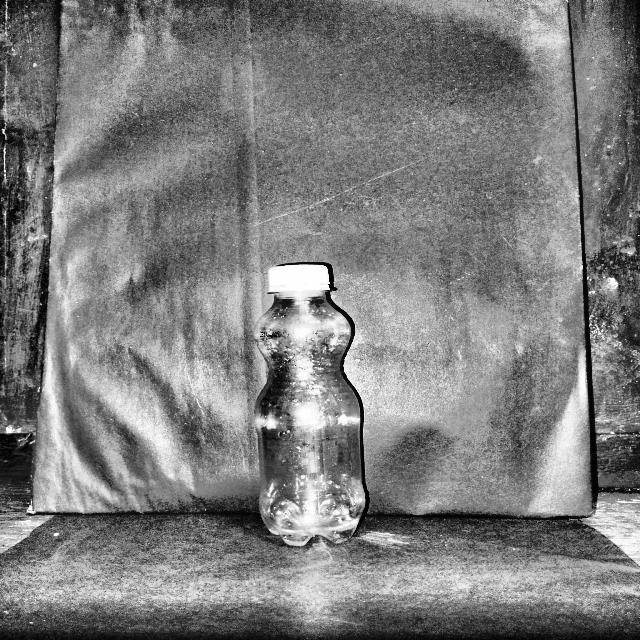Plastic-Bottle: (248, 262, 368, 548)
